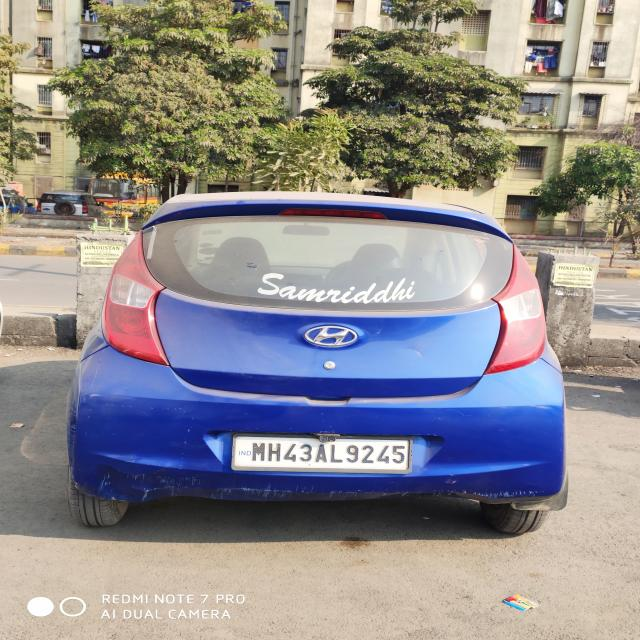Number-Plate: (230, 435, 409, 469)
